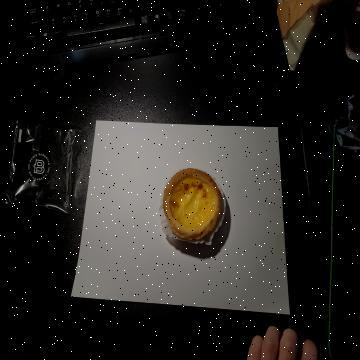EggTart: (162, 166, 223, 242)
